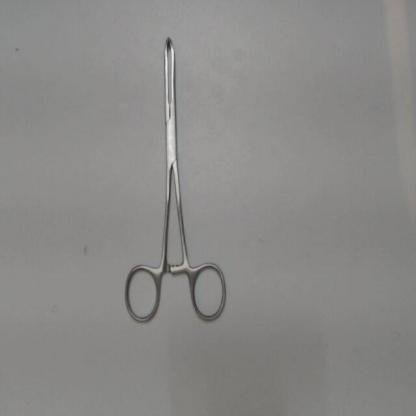Allis Tissue Forceps: (119, 21, 237, 330)
